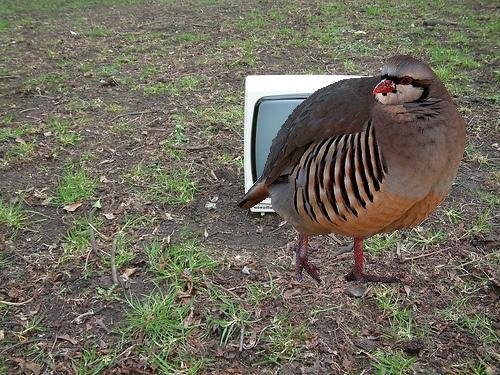tampered: (237, 56, 466, 283)
